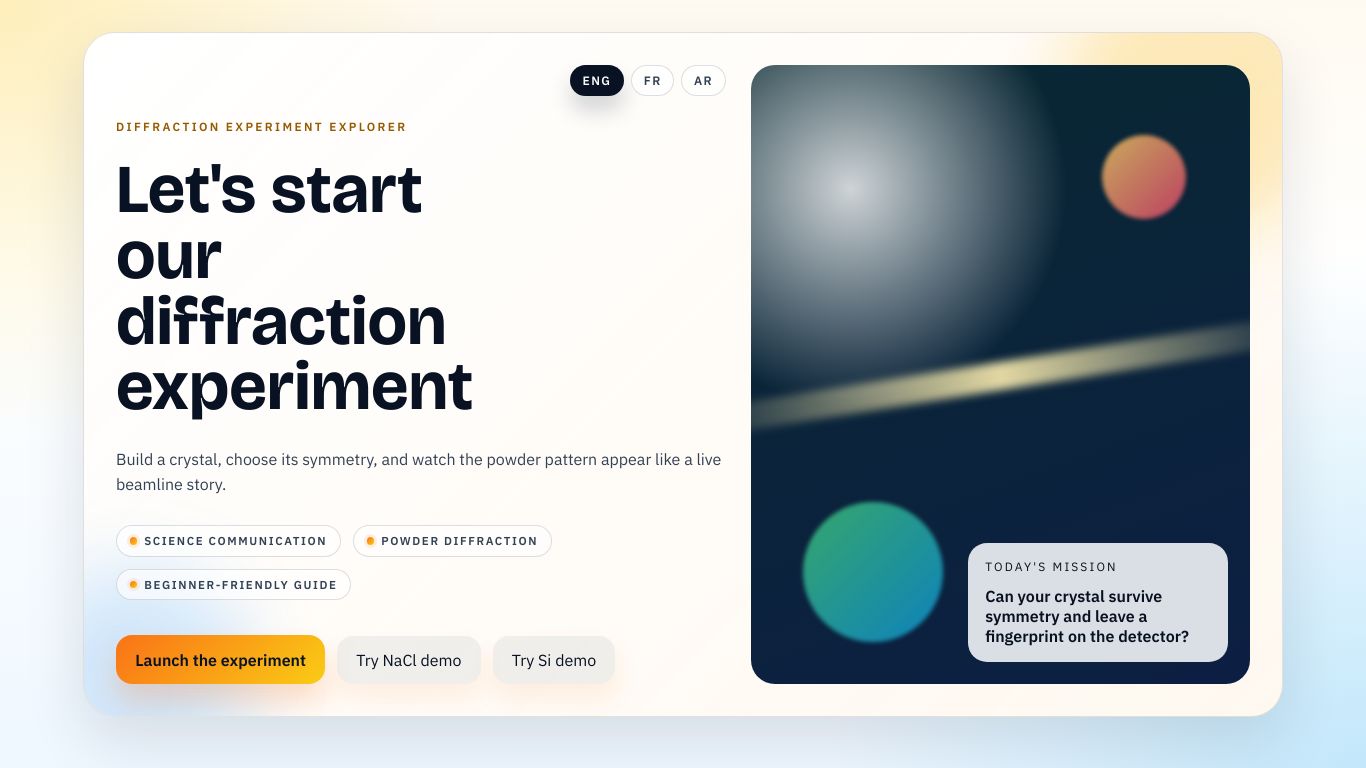
Test case: ExperimentExplorer › switches between english, french, and arabic from the top-right language controls
Expected: the heading "Let's start our diffraction experiment" is shown, [116,148,473,427]
Click the button "FR".
click(653, 81)  # box [631,65,674,96]
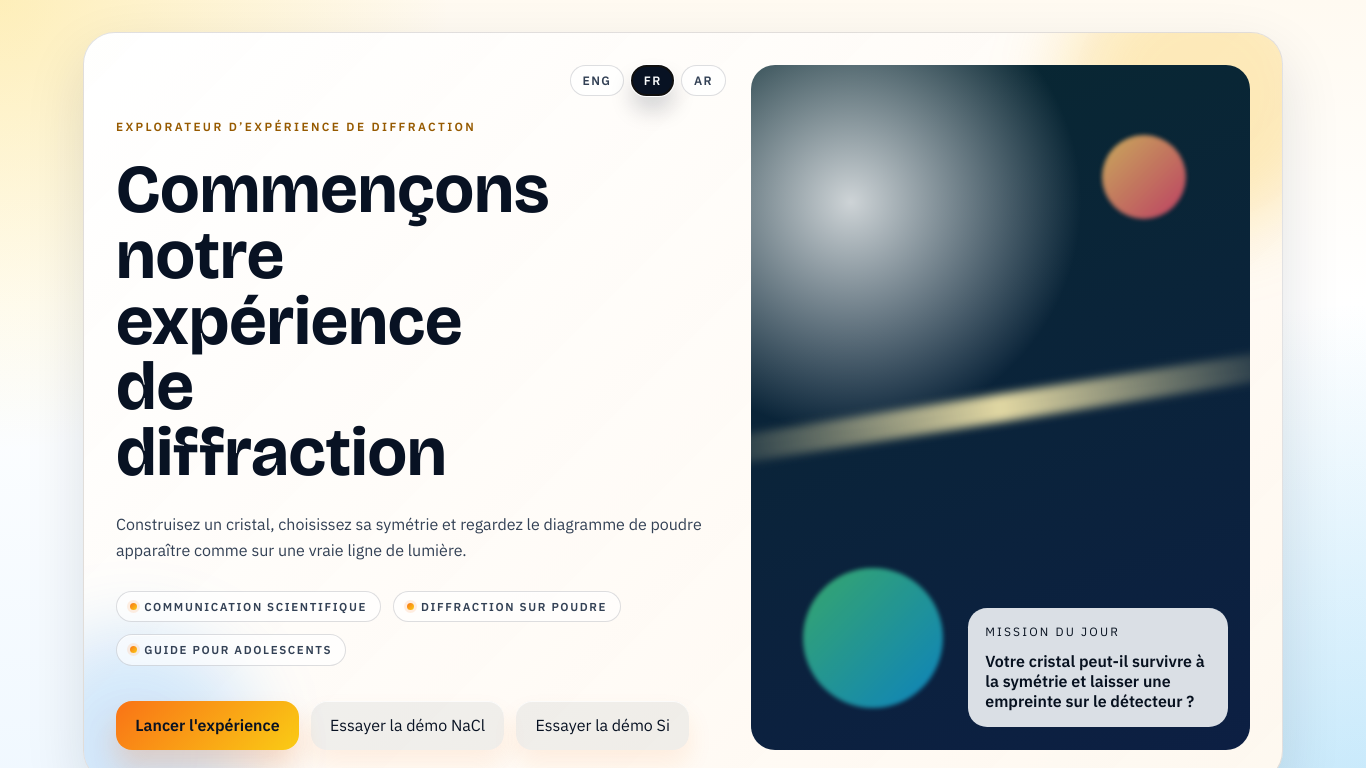
Now the heading "Commençons notre expérience de diffraction" is shown, box [116,157,538,485]
Click the button "AR".
click(704, 81)  # box [681,65,726,96]
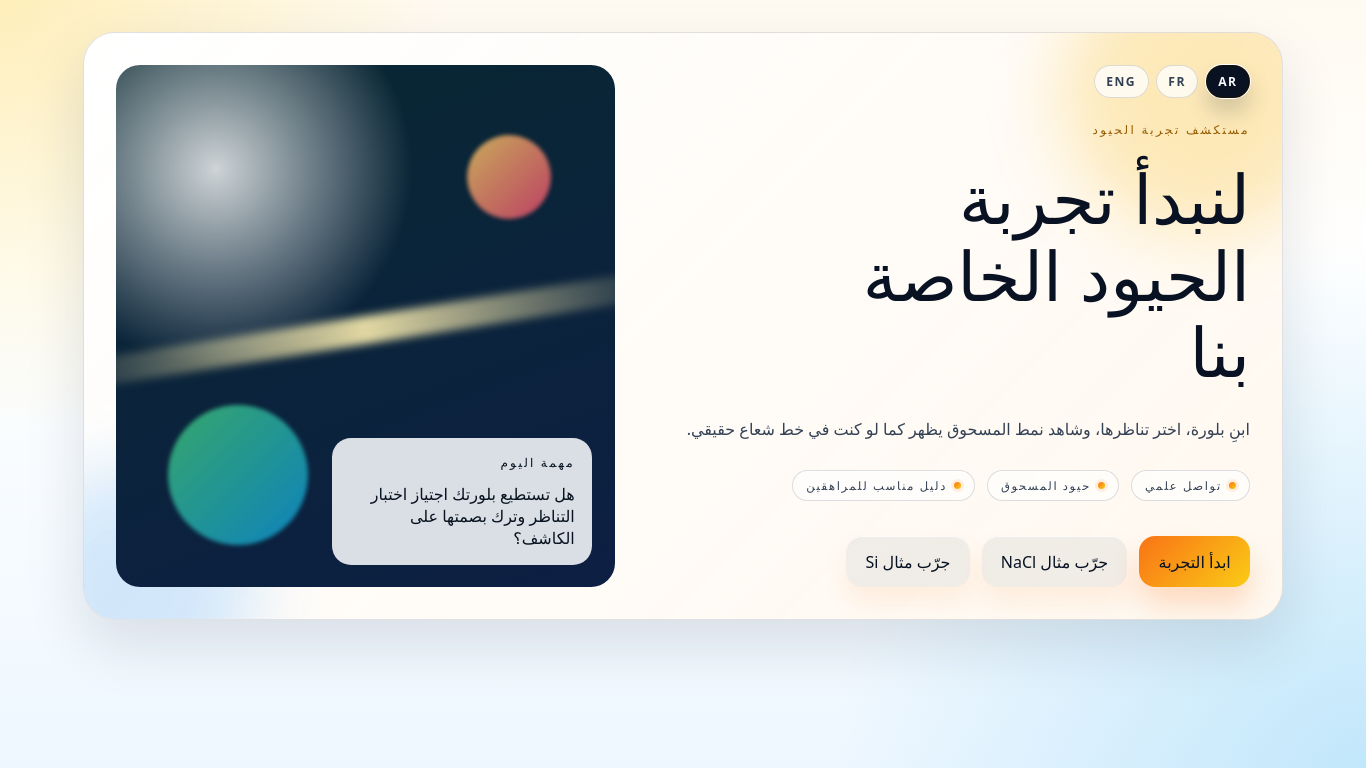
Now the heading "لنبدأ تجربة الحيود الخاصة بنا" is shown, box [859,160,1250,390]
Click the button "ENG".
click(1121, 82)  # box [1094,65,1149,98]
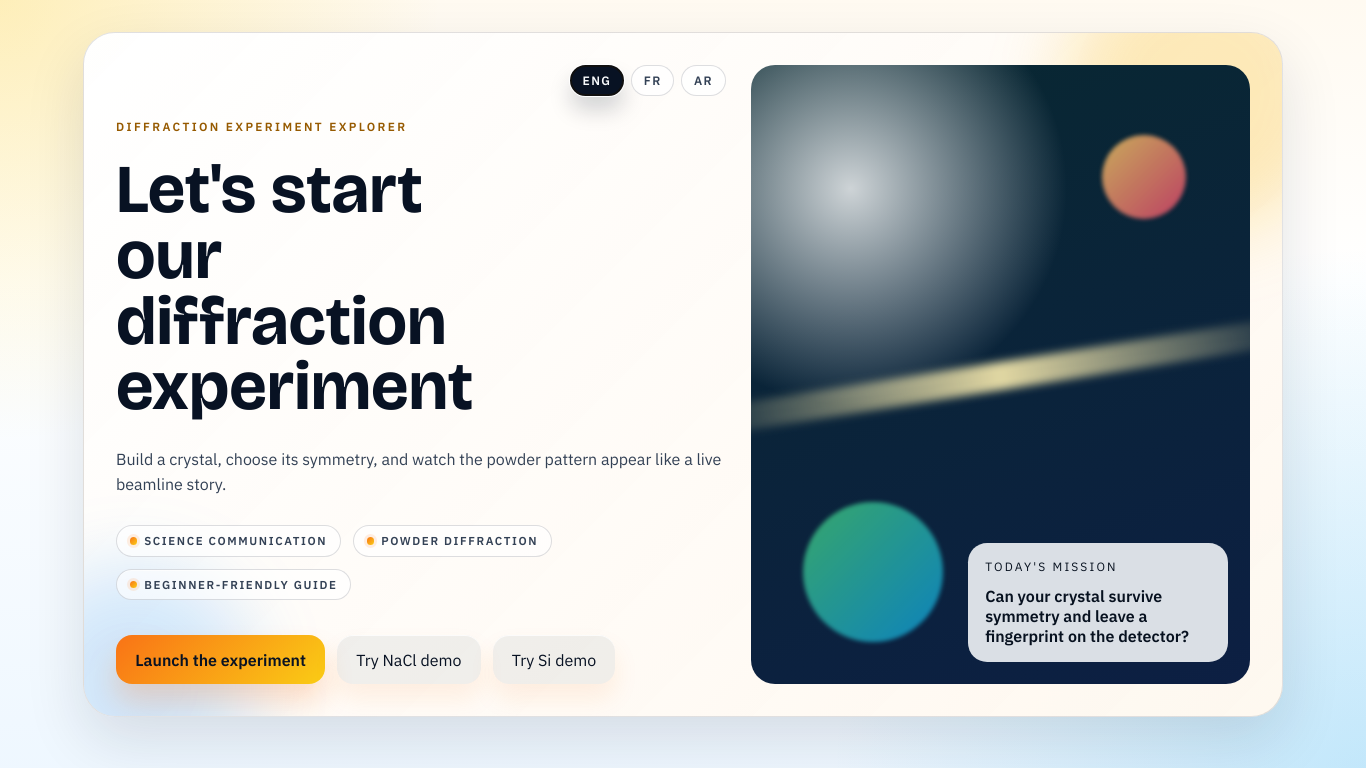
Now the heading "Let's start our diffraction experiment" is shown, box [116,148,473,427]
